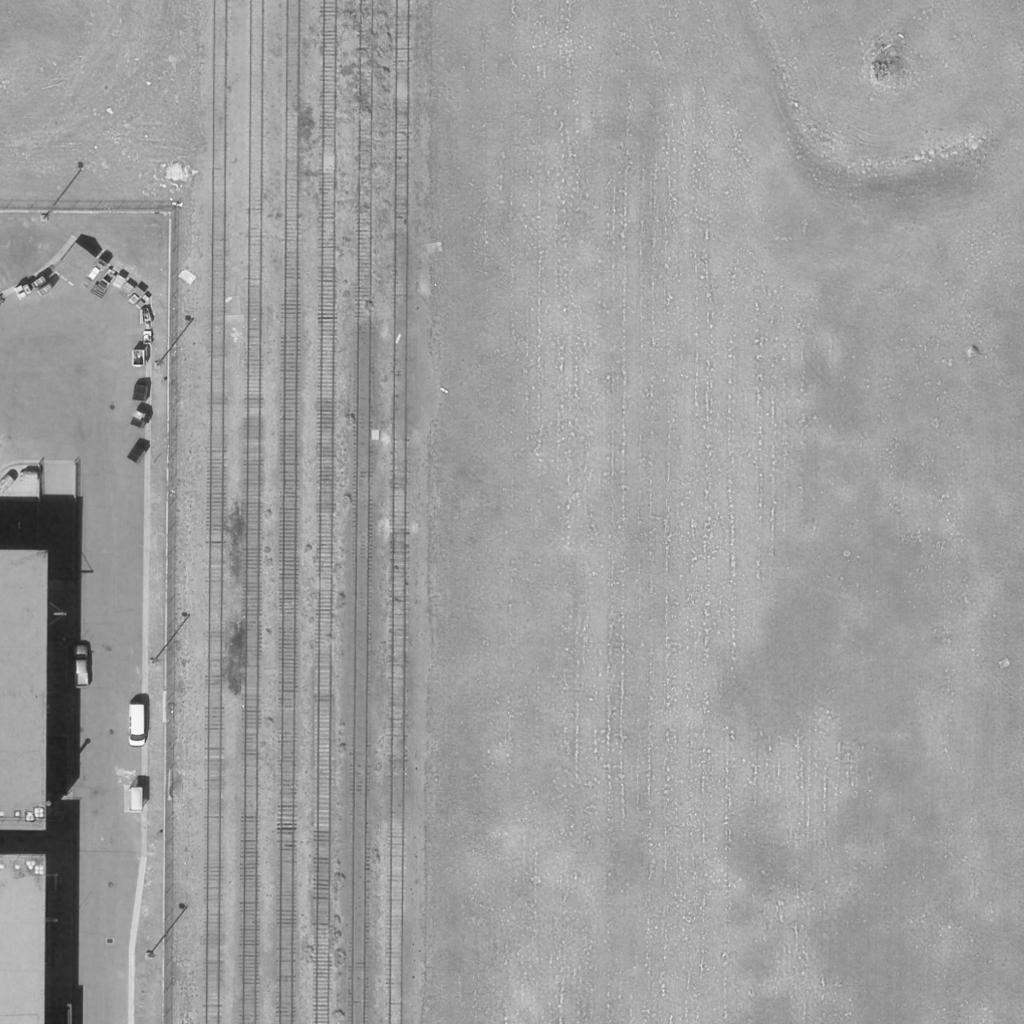vehicle: (127, 701, 147, 747), (71, 643, 91, 689)
